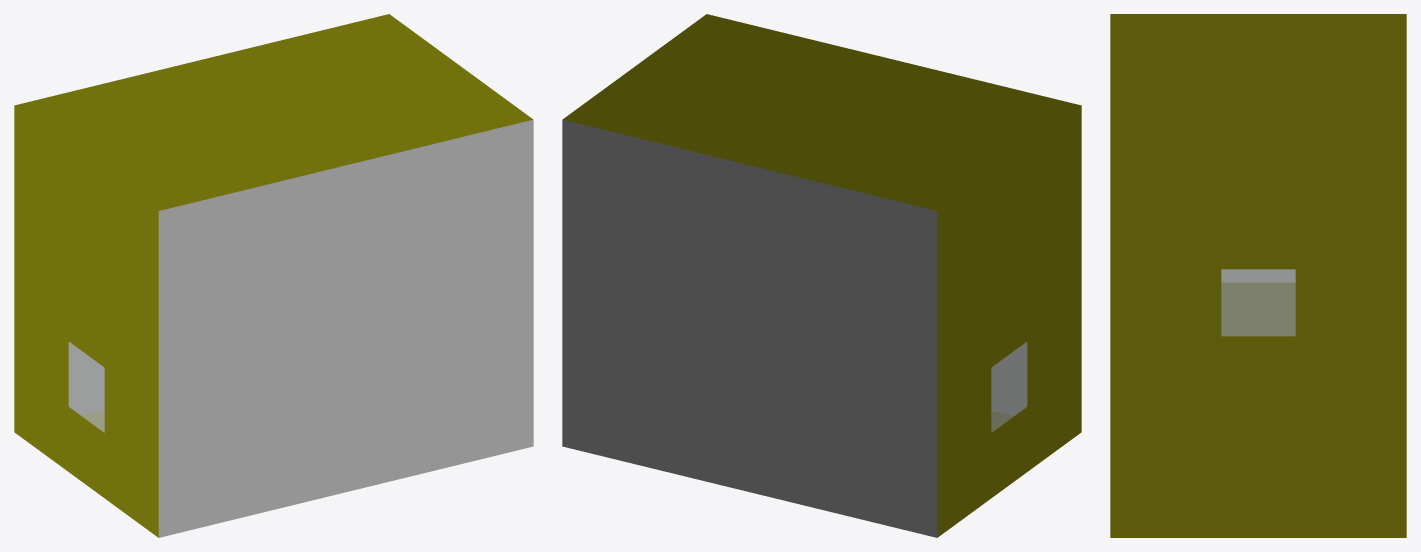
Rendered from idf.obj.
3 renders of one model, left to right at view 1: azimuth 30°, elevation 25°; view 2: azimuth 150°, elevation 25°; view 3: azimuth 270°, elevation 25°, orthographic. The views are drawn at different scales.
Bounding box in the file's own units: 6 × 5 × 4.
